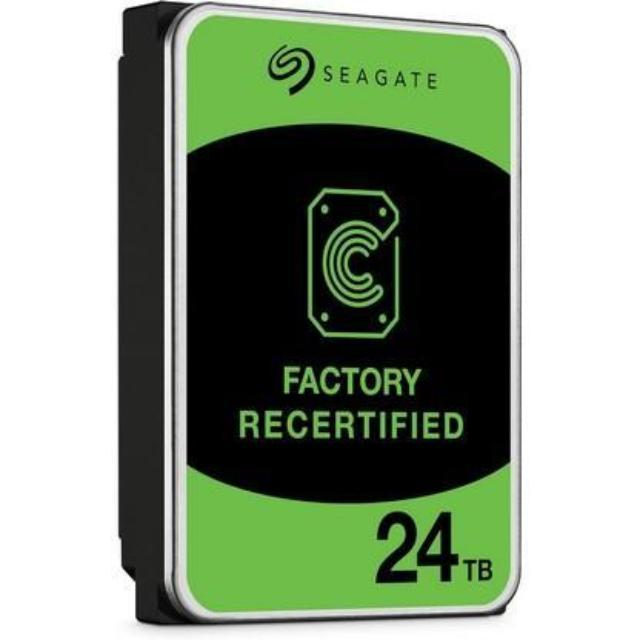DISK: (98, 0, 530, 625)
